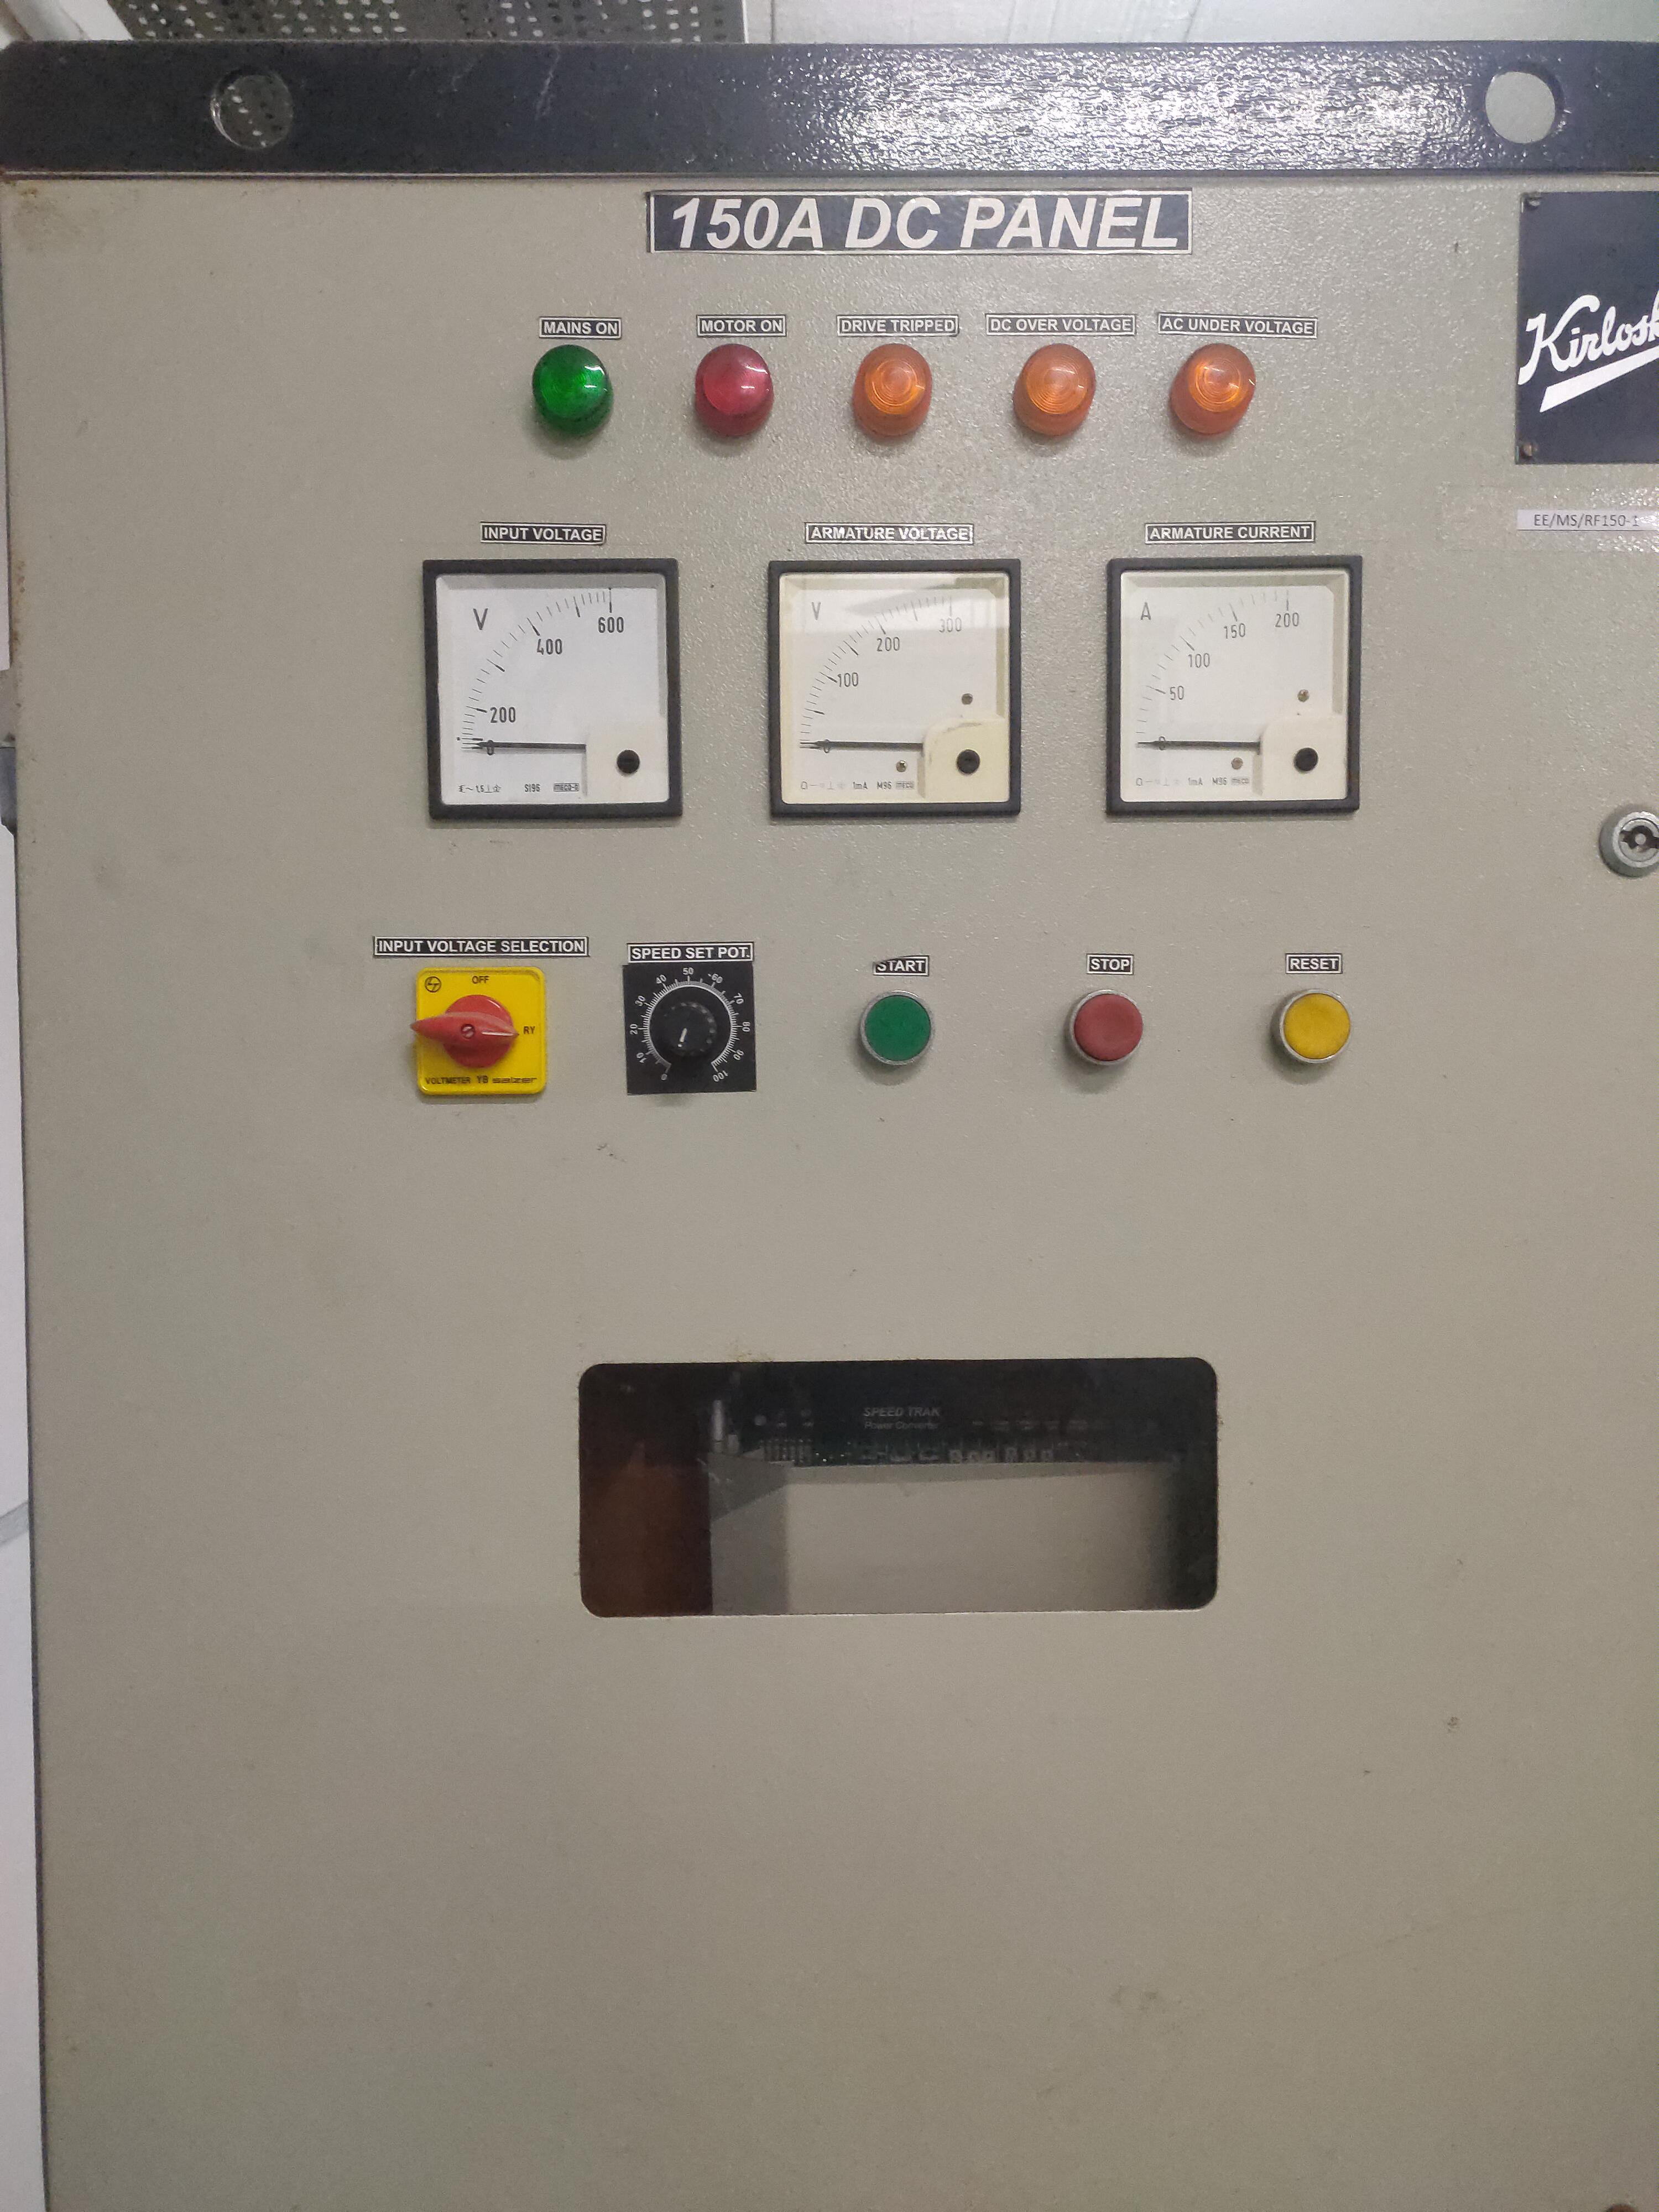Light Indications: (451, 282, 1305, 481)
